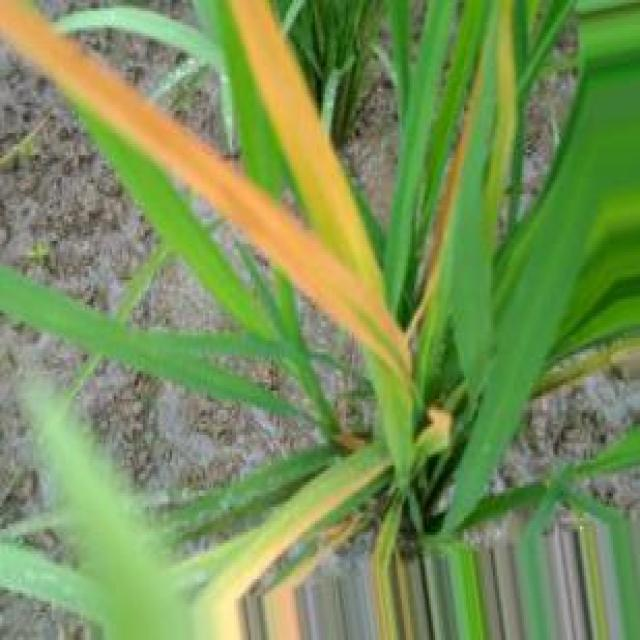Rice Tungro: (0, 1, 410, 380), (233, 0, 384, 302)
